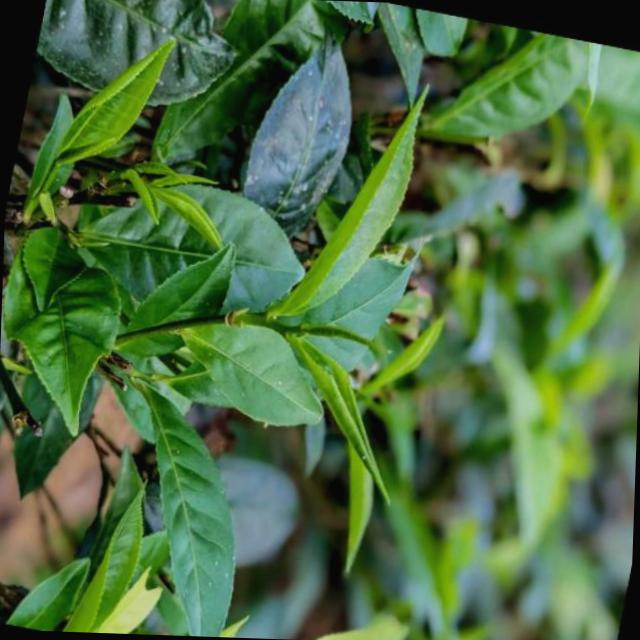Stem: (248, 312, 267, 327)
